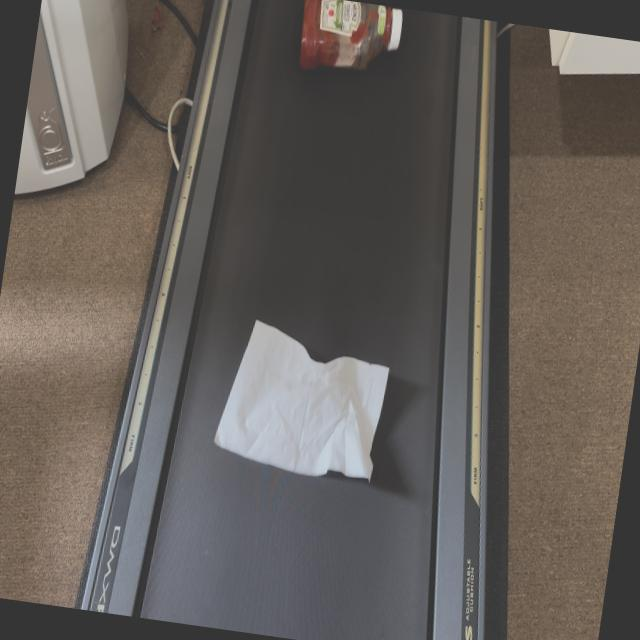Recycle: (210, 314, 396, 484)
Trash: (293, 0, 407, 82)
